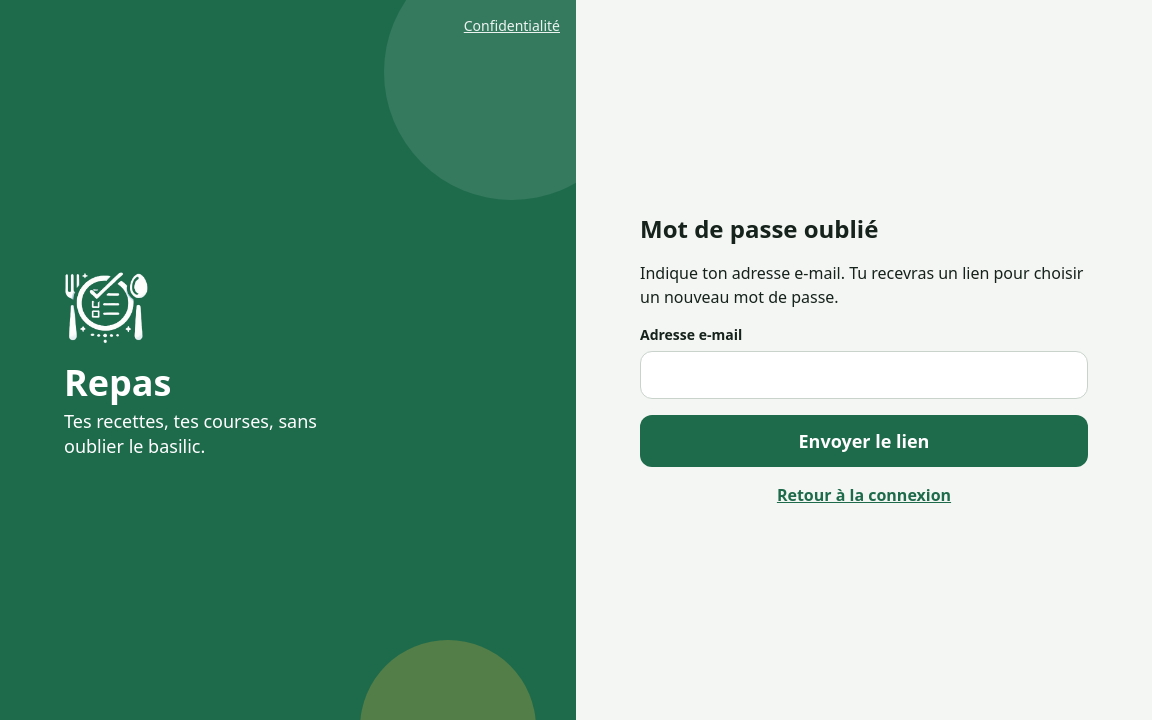
Test: ForgotPasswordView › envoie l’adresse et dit qu’un lien vient de partir, pour 30 minutes
This screenshot has width=1152, height=720.
Type "a@example.com" into the field labelled "Adresse e-mail" at (864, 375), box [640,351,1088,399]
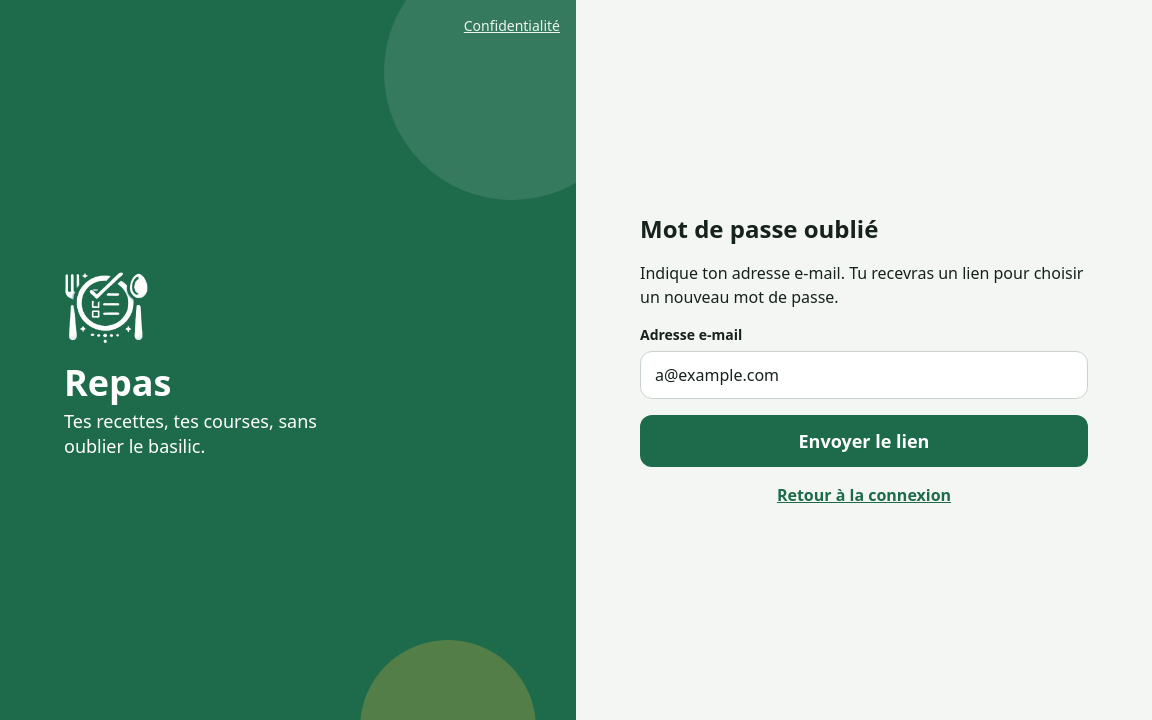
Submit the form, box [640,325,1088,467]
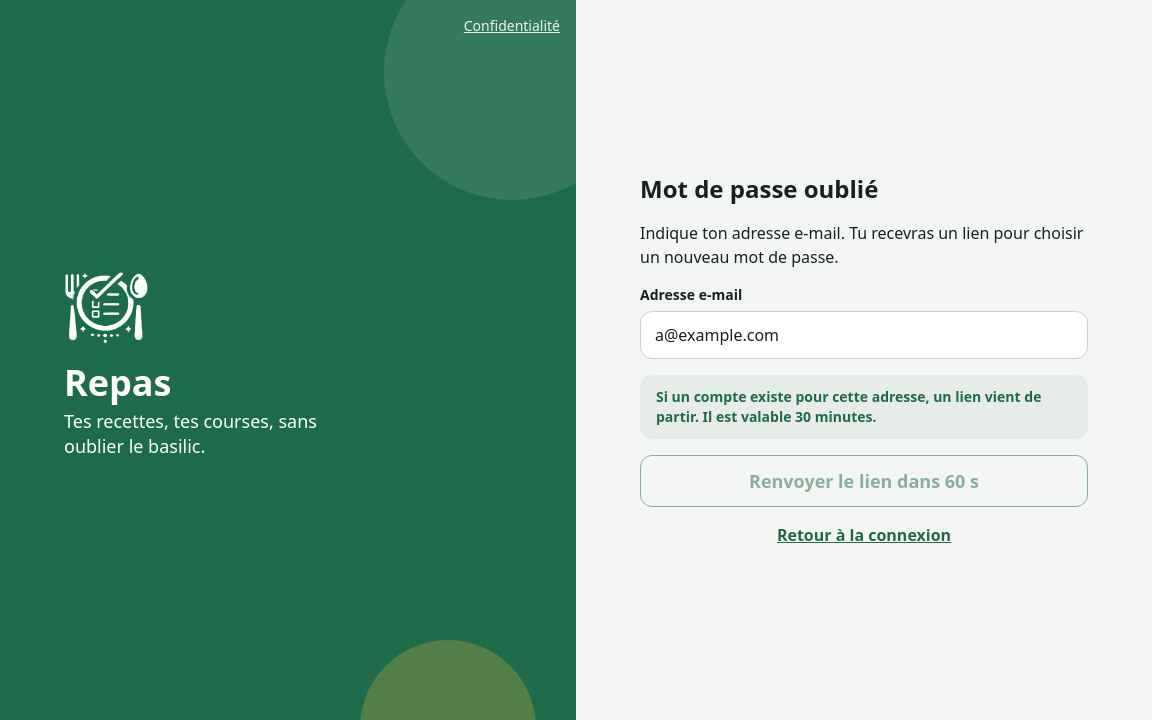
Expected: the message shows "Si un compte existe pour cette adresse, un lien vient de partir. Il est valable 30 minutes.", [656,387,1041,426]
